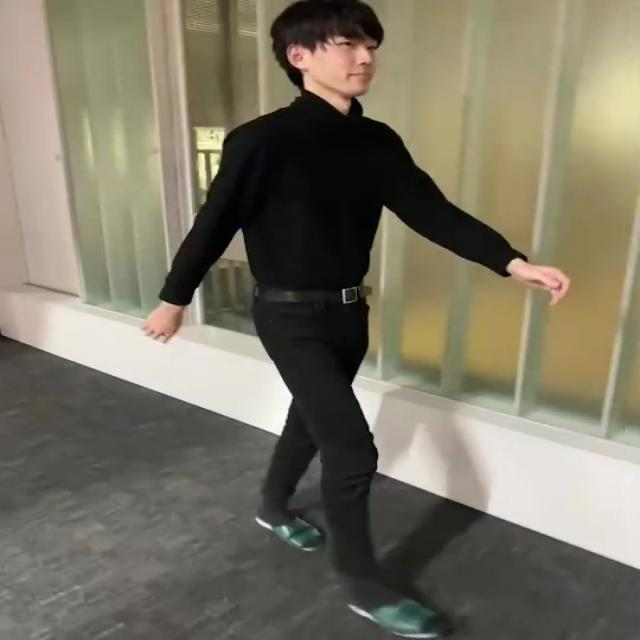direk: (137, 0, 571, 636)
